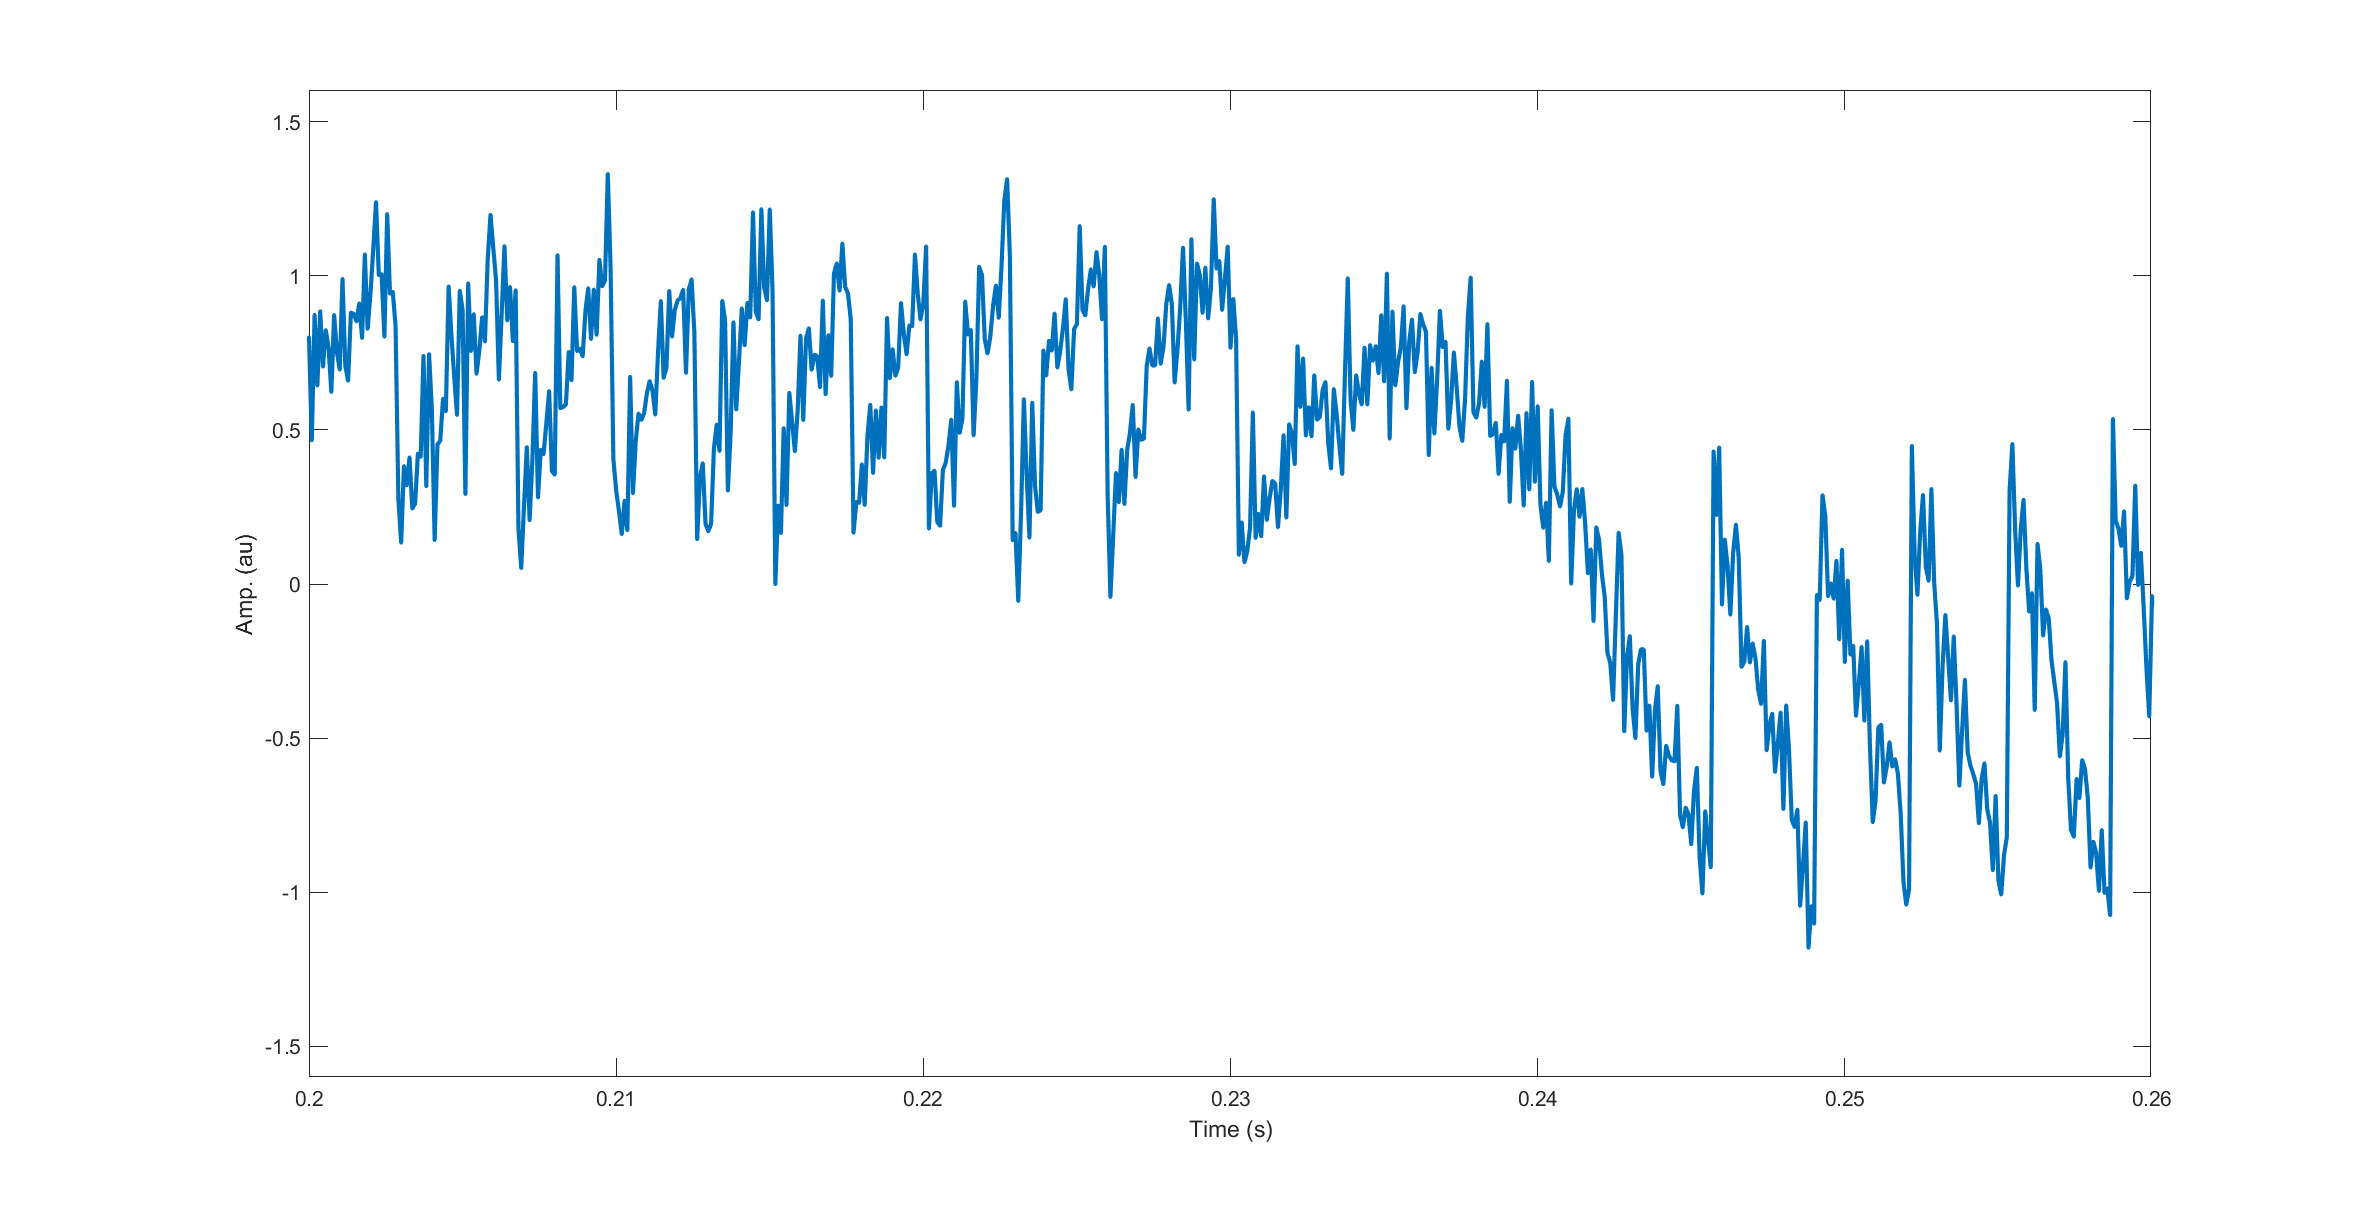negative_fringe: (1701, 443, 1799, 901), (1802, 478, 1893, 946), (1900, 434, 1986, 900), (1995, 435, 2083, 892), (2100, 411, 2143, 897)
positive_fringe: (1127, 187, 1248, 582), (414, 208, 529, 579), (1031, 205, 1119, 605), (947, 162, 1025, 603), (535, 161, 620, 531), (321, 177, 407, 525), (713, 204, 787, 594), (864, 211, 935, 539), (790, 232, 860, 553), (620, 265, 704, 531)
